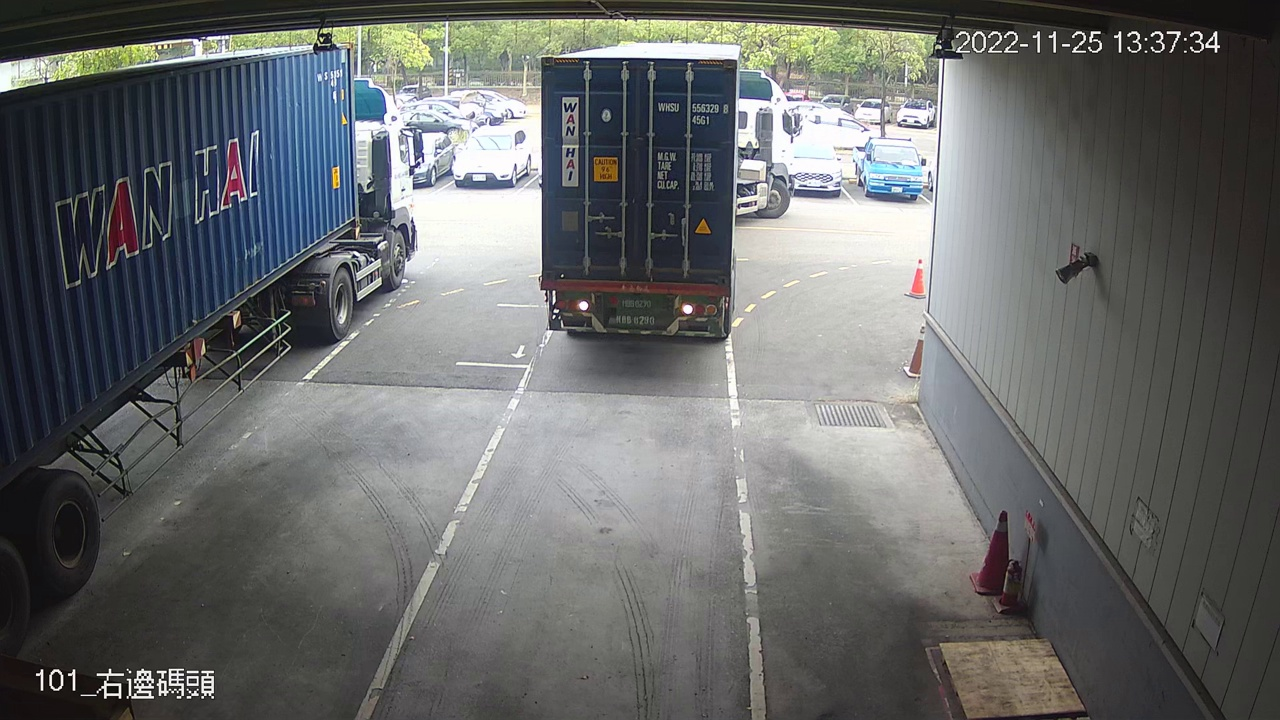container: (653, 97, 732, 130)
